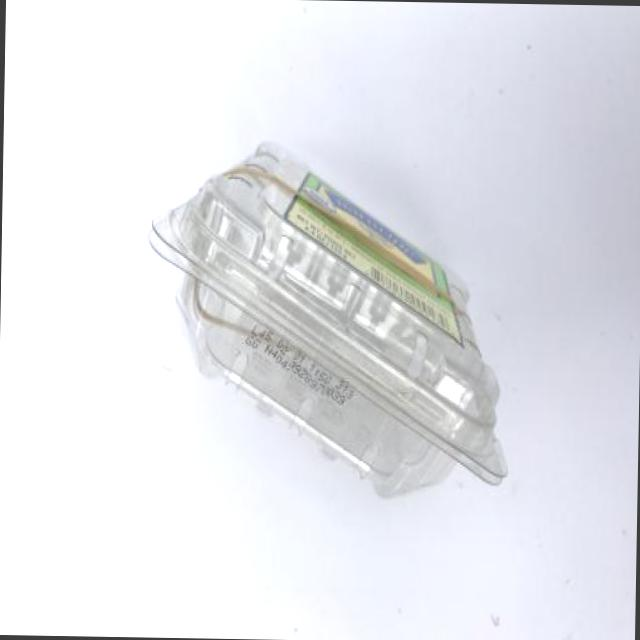Trash: (136, 120, 516, 516)
